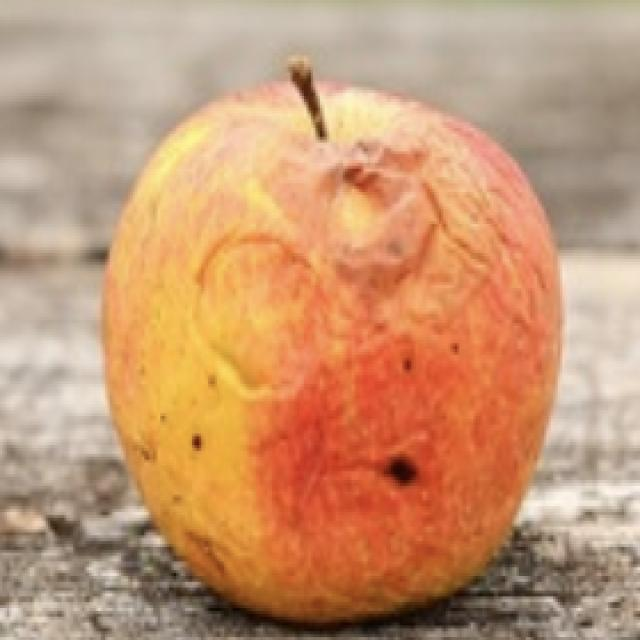Rotten: (105, 82, 570, 638)
